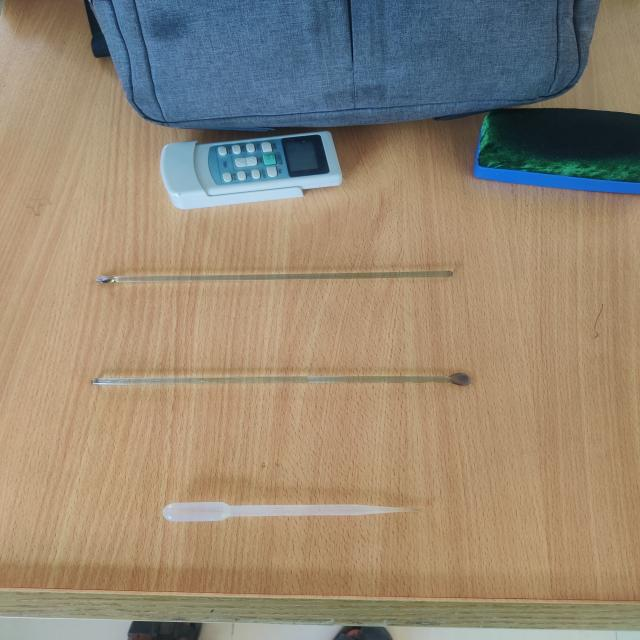Glass_Rod: (66, 341, 494, 422), (79, 245, 490, 320)
Pipette: (148, 482, 426, 546)
